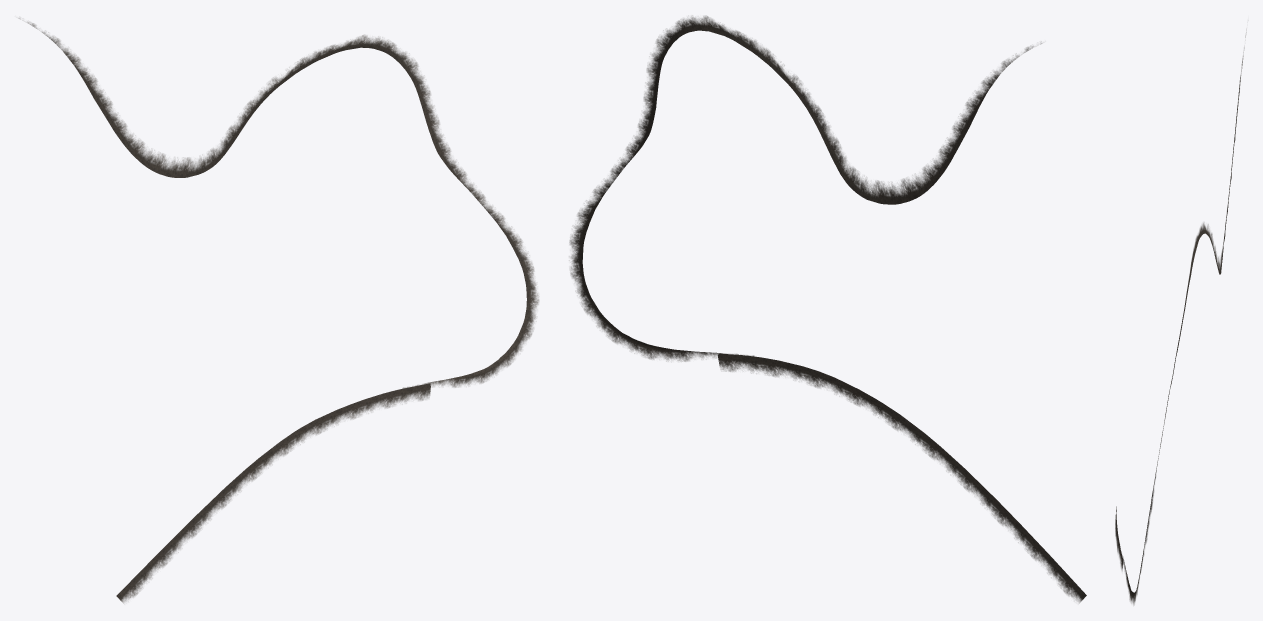
File: put_ivica.glb
The picture shows the model from 3 angles, left to right: view 1: azimuth 30°, elevation 25°; view 2: azimuth 150°, elevation 25°; view 3: azimuth 270°, elevation 25°; orthographic projection. The views are drawn at different scales.
Parts seen in each view (by area): view 1: Background_Tree_Atlas.016_Road_Edge_Gravel_Dusty_0; view 2: Background_Tree_Atlas.016_Road_Edge_Gravel_Dusty_0; view 3: Background_Tree_Atlas.016_Road_Edge_Gravel_Dusty_0.
Part boxes in pixels (left/top/right/bottom): Background_Tree_Atlas.016_Road_Edge_Gravel_Dusty_0: left=18, top=18, right=538, bottom=603; Background_Tree_Atlas.016_Road_Edge_Gravel_Dusty_0: left=569, top=16, right=1086, bottom=603; Background_Tree_Atlas.016_Road_Edge_Gravel_Dusty_0: left=1115, top=32, right=1246, bottom=604.
Bounding box in the file's own units: 134 × 151 × 35.03.
1 material, 1 textured.
